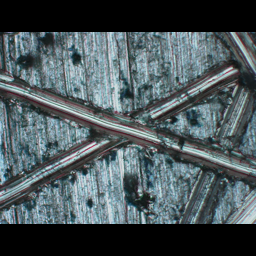d: (0, 65, 255, 219)
